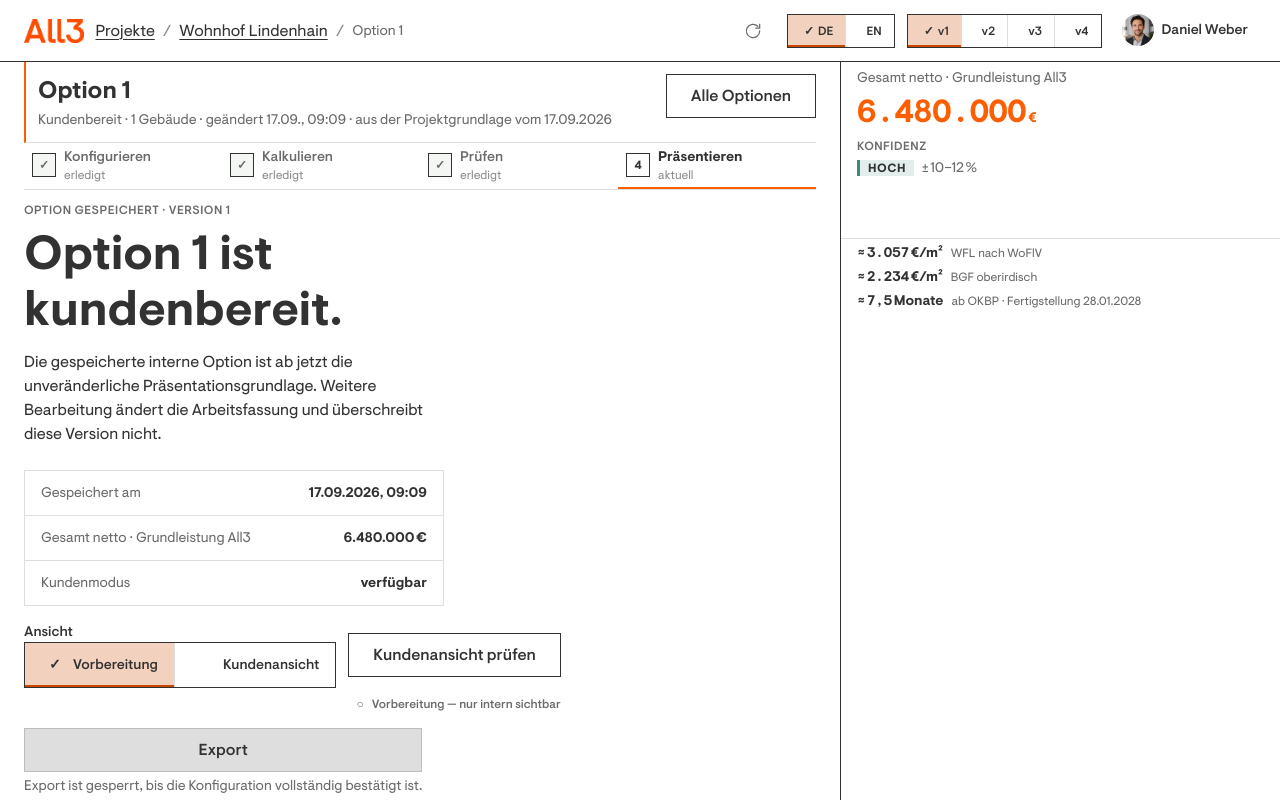
Test: DC-21: происхождение раскрывается у каждого вида вклада › в клиентском режиме сохраняет объявленный DIN 276 scope вместо имени здания
The width and height of the screenshot is (1280, 800).
What coordinates should you click on to do the following:
click the button "Kundenansicht prüfen"
I would click on:
 (455, 655)
Its box is 348,633 -> 561,677.
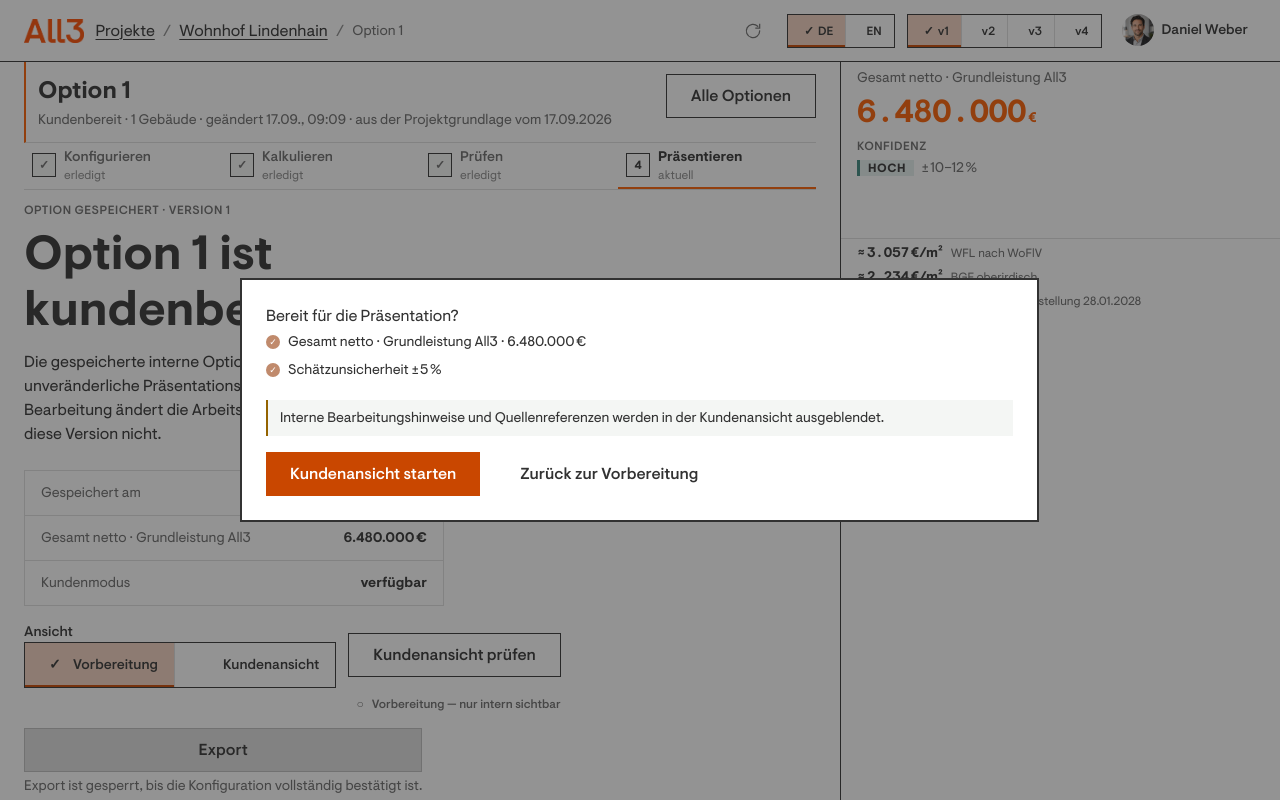
What coordinates should you click on to do the following:
click the button "Kundenansicht starten"
I would click on:
 (374, 474)
Its box is 266,452 -> 481,496.
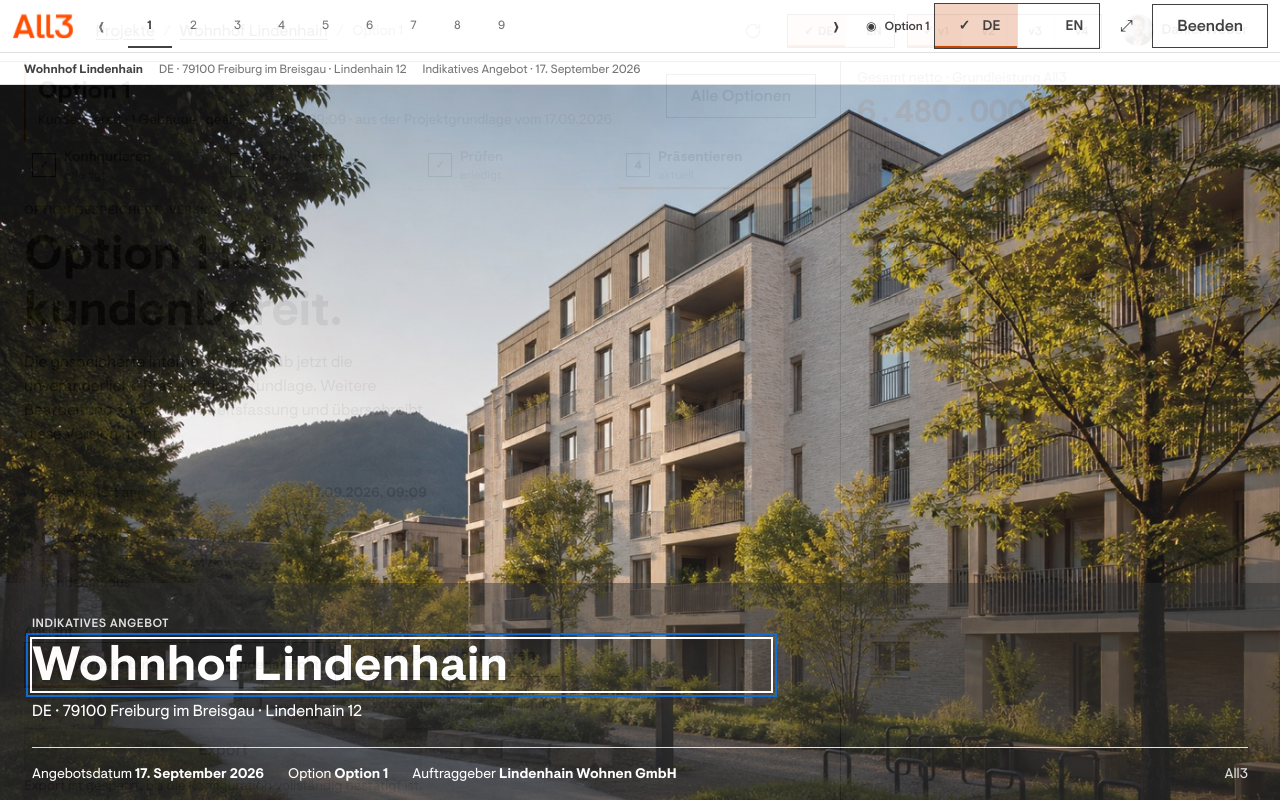
What coordinates should you click on to do the following:
click the button named "· Preiszusammensetzung"
I would click on:
 (282, 26)
Its box is 260,4 -> 304,48.
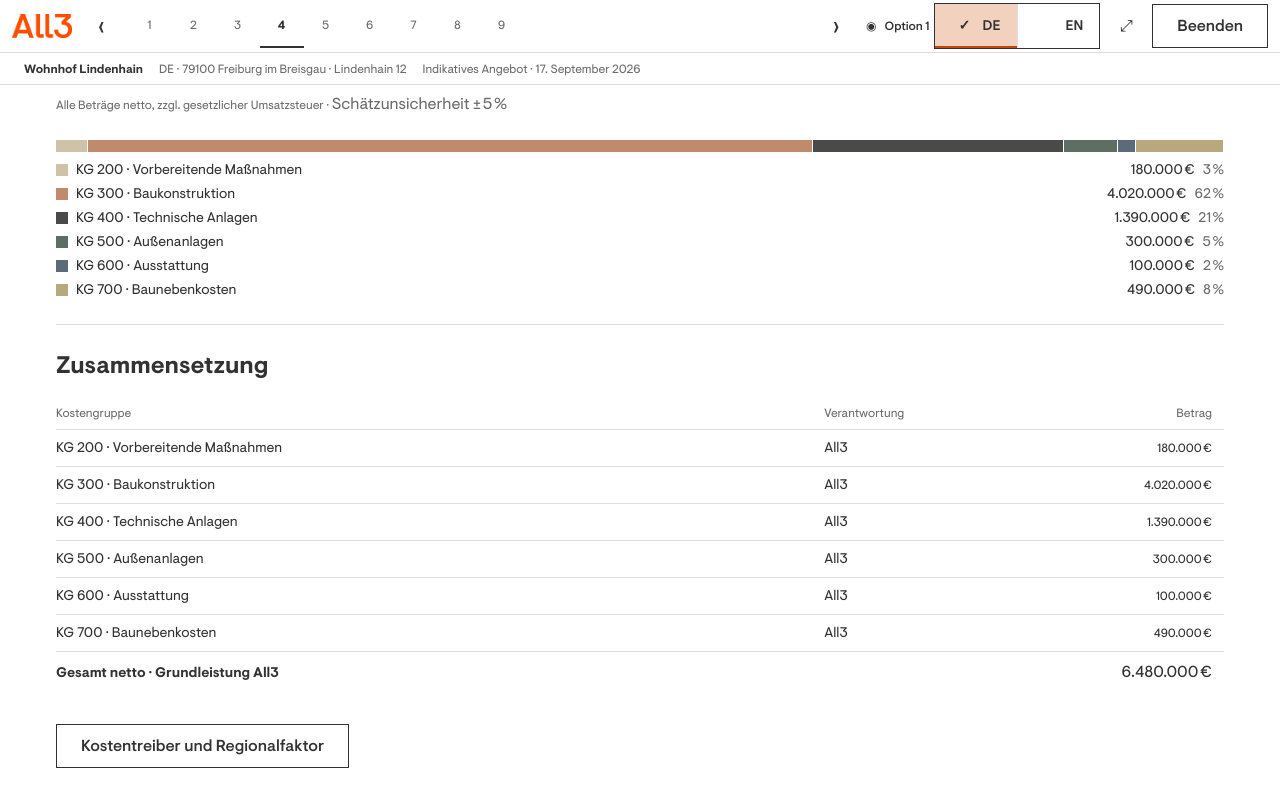
Expected: the element "Preiszusammensetzung" is shown
Expected: the element "Zusammensetzung" is shown, 56,324 -> 1224,768
Expected: the column heading "KG 300 · Baukonstruktion" is shown, 56,466 -> 824,504
